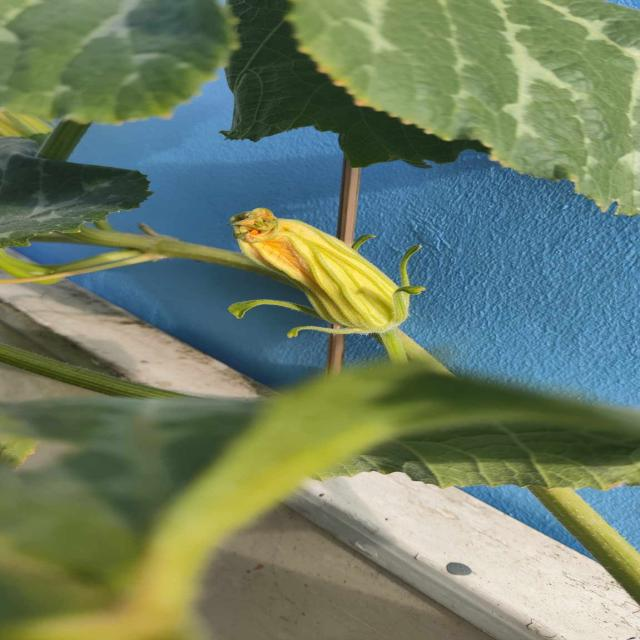flower: (218, 203, 436, 342)
